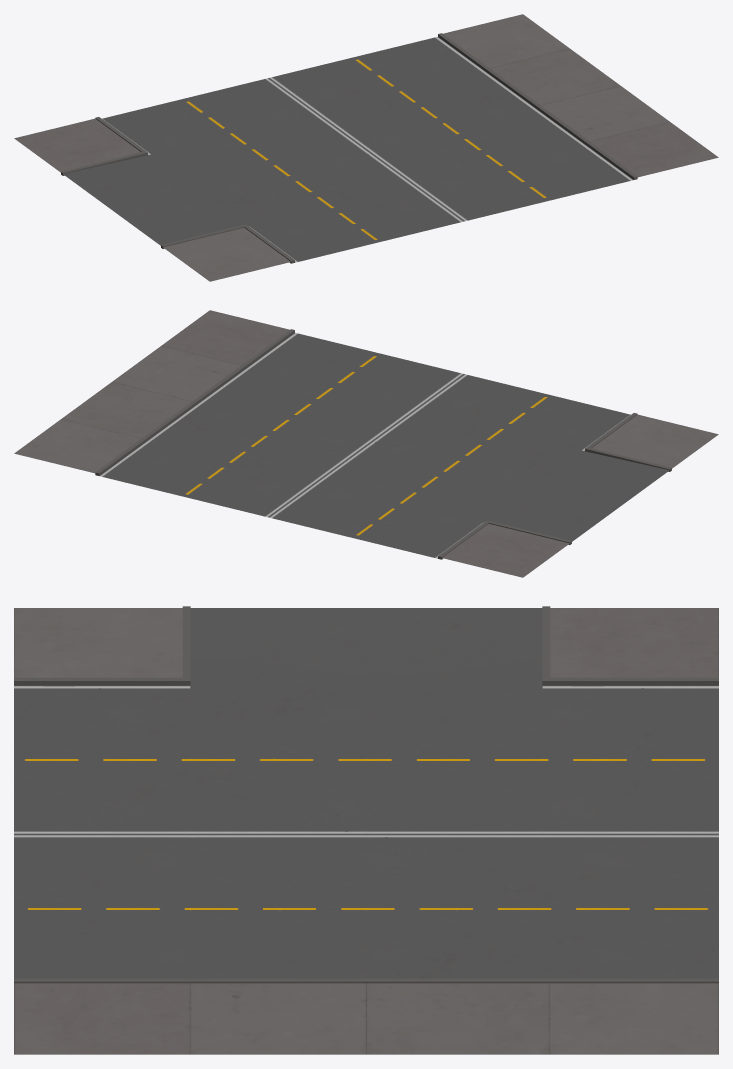
The model's file is SM_Floor_Road_18_UP.fbx.
3 views of the same model, one above another, from view 1: azimuth 30°, elevation 25°; view 2: azimuth 150°, elevation 25°; view 3: azimuth 270°, elevation 25° (orthographic). The views are drawn at different scales.
Parts seen in each view (by area): view 1: SM_Floor_Road_18_UP; view 2: SM_Floor_Road_18_UP; view 3: SM_Floor_Road_18_UP.
Boxes of the visible parts, bbox=[...] form: SM_Floor_Road_18_UP: bbox=[14, 14, 718, 281]; SM_Floor_Road_18_UP: bbox=[14, 310, 718, 577]; SM_Floor_Road_18_UP: bbox=[14, 606, 718, 1054].
Bounding box in the file's own units: 15 × 0.075 × 10.
